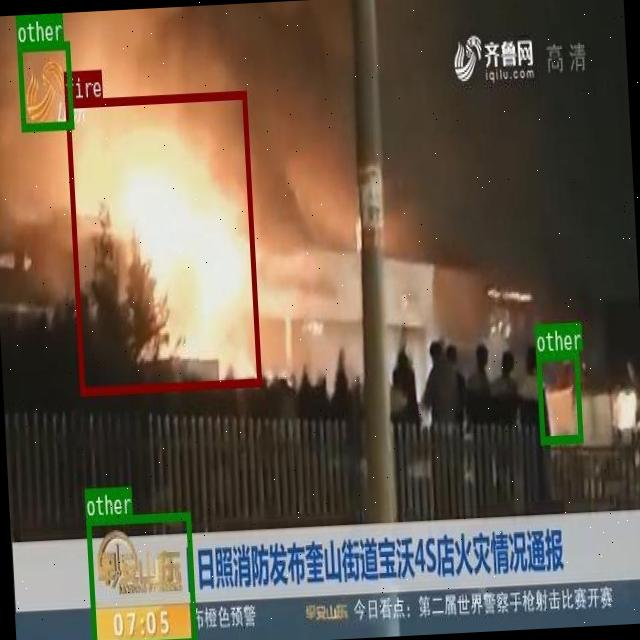fire: (65, 90, 261, 393)
